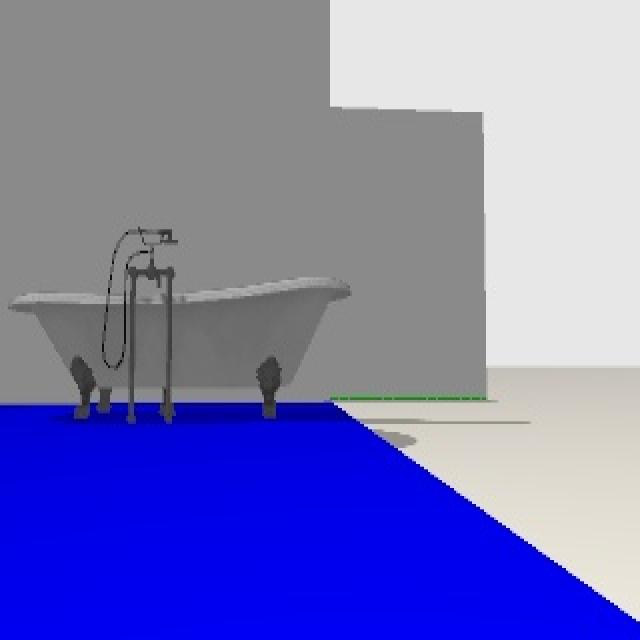bathtub: (10, 229, 352, 424)
